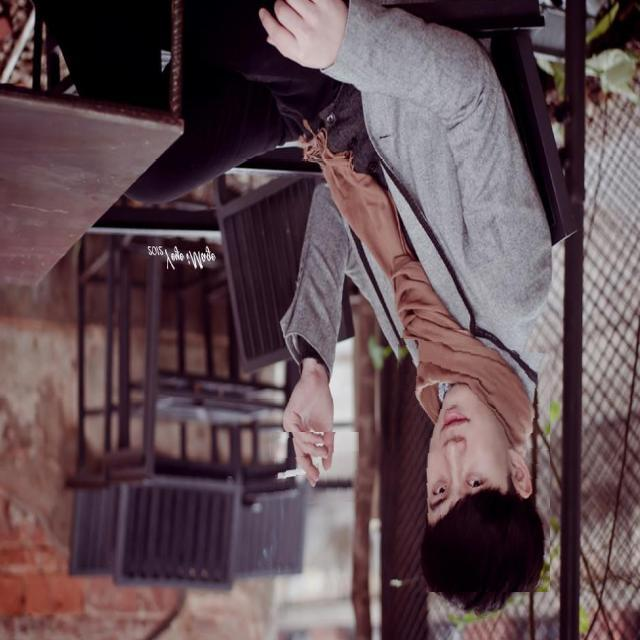cigarette: (268, 432, 359, 508)
